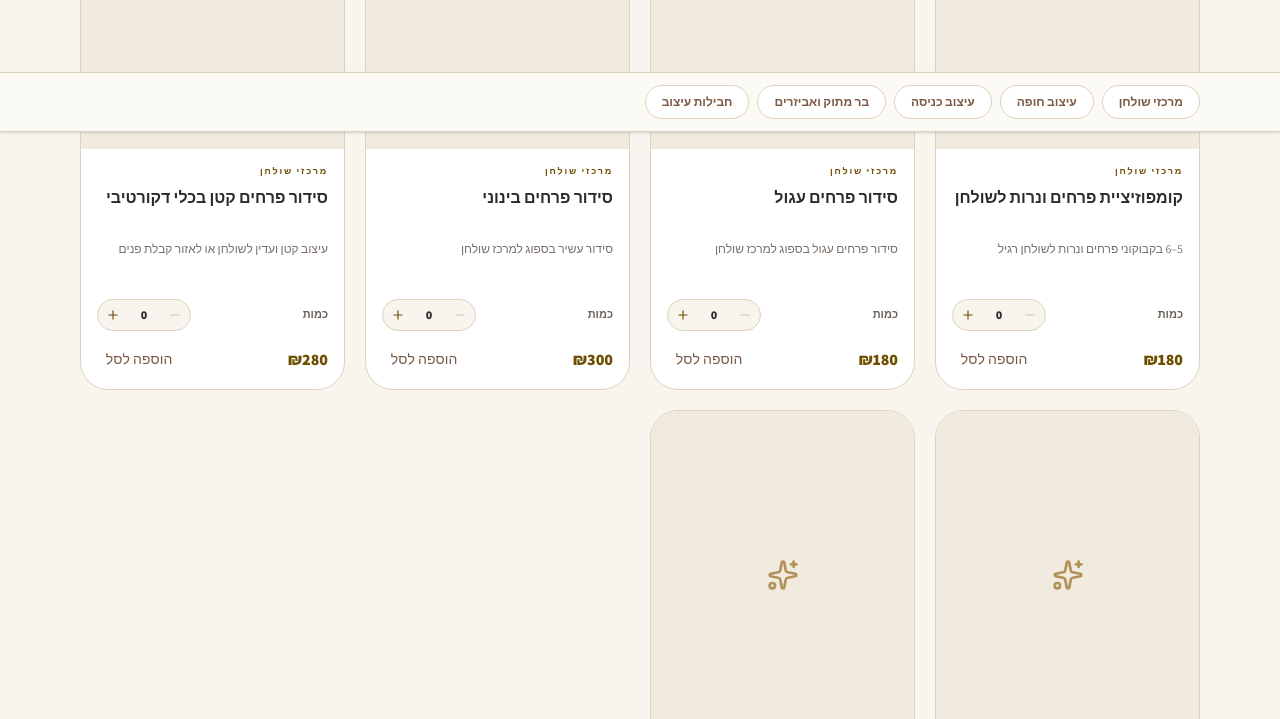
HomePage › renders compact design-product categories and adds products to the cart
(page scrolled)
Check: the link "מרכזי שולחן" is shown, box [1102,85,1200,119]
Check: the link "עיצוב חופה" is shown, box [1000,85,1094,119]
Click the button "הוספה לסל" below "5–6 בקבוקוני פרחים ונרות לשולחן רגיל" at (994, 360), box [952,347,1036,373]
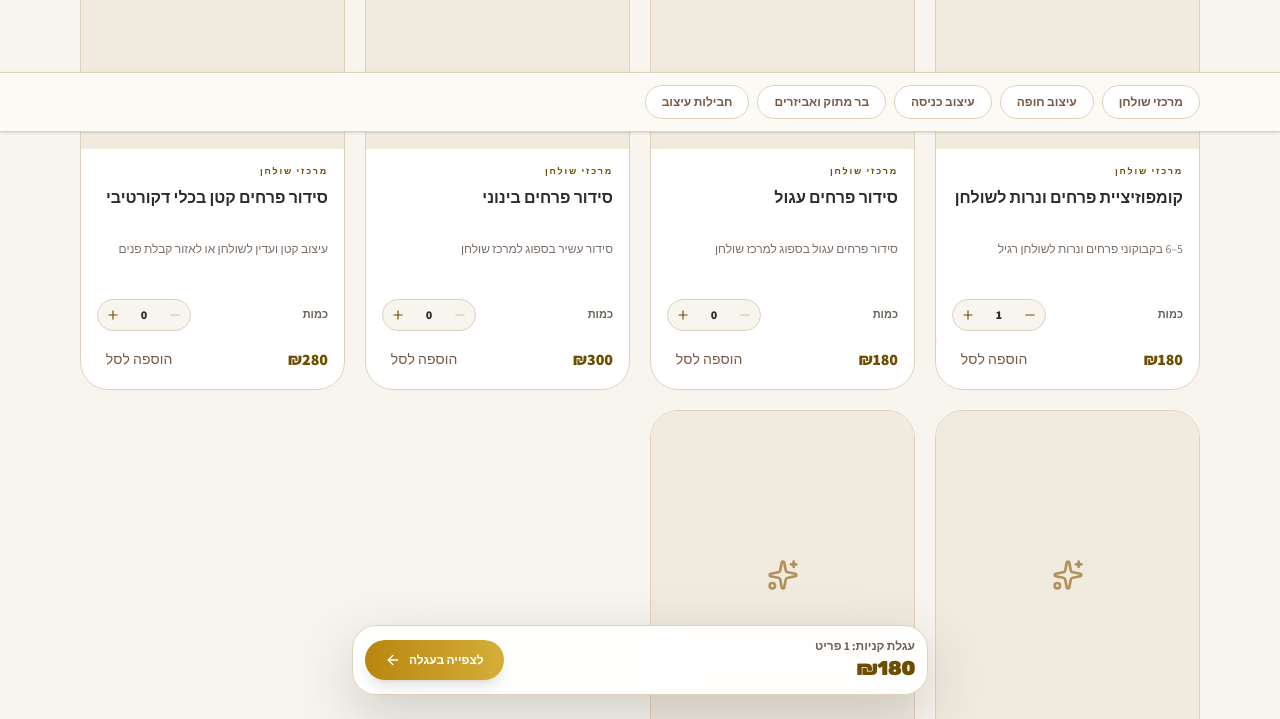
Check: the text "עגלת קניות: 1 פריט" is shown, box [815,638,915,654]
